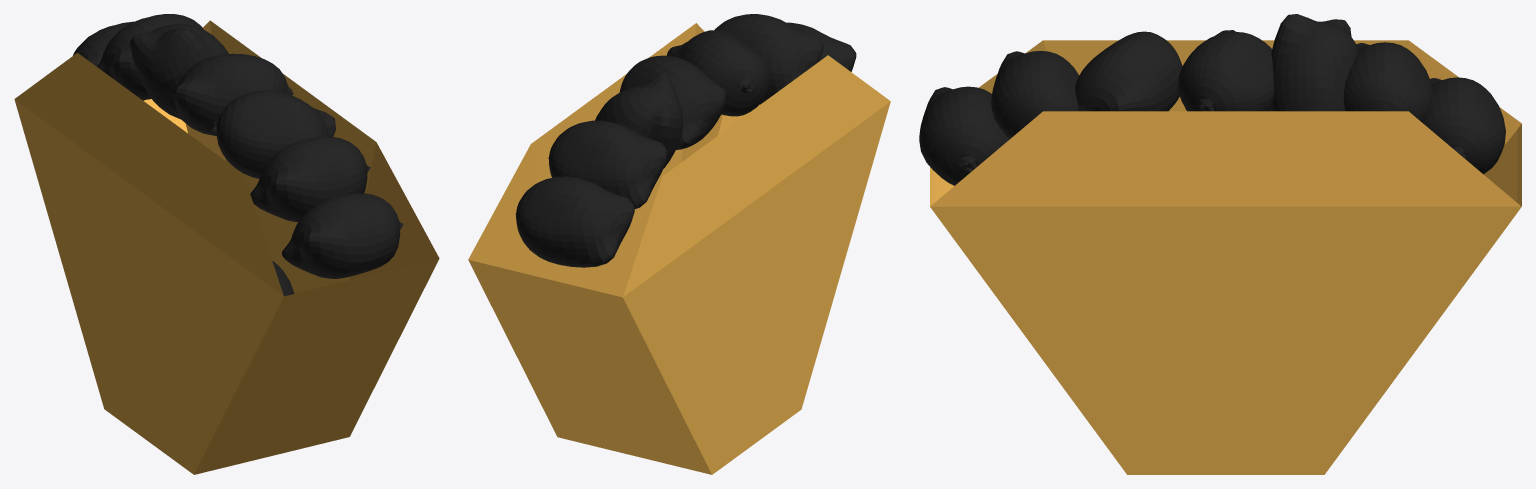
File: Skip Full.obj
The picture shows the model from 3 angles, left to right: view 1: azimuth 30°, elevation 25°; view 2: azimuth 150°, elevation 25°; view 3: azimuth 270°, elevation 25°; orthographic projection. The views are drawn at different scales.
Visible parts, largest first — view 1: Cube, Icosphere.008, Icosphere.007, Icosphere.006, Icosphere.005, Icosphere.004, Icosphere.003, Icosphere.009; view 2: Cube, Icosphere.009, Icosphere.003, Icosphere.006, Icosphere.007, Icosphere.005, Icosphere.004, Icosphere.008; view 3: Cube, Icosphere.004, Icosphere.006, Icosphere.005, Icosphere.008, Icosphere.007, Icosphere.003, Icosphere.009.
Boxes of the visible parts, box(x1,y1,x2,y2) form: Cube: box(14, 20, 439, 474); Icosphere.008: box(281, 193, 403, 278); Icosphere.007: box(250, 136, 370, 221); Icosphere.006: box(211, 90, 335, 178); Icosphere.005: box(168, 53, 293, 135); Icosphere.004: box(130, 23, 228, 119); Icosphere.003: box(97, 14, 203, 99); Icosphere.009: box(73, 21, 145, 100); Cube: box(468, 23, 890, 474); Icosphere.009: box(515, 176, 634, 267); Icosphere.003: box(548, 120, 667, 208); Icosphere.006: box(667, 30, 769, 116); Icosphere.007: box(714, 14, 823, 104); Icosphere.005: box(619, 55, 725, 149); Icosphere.004: box(595, 74, 683, 168); Icosphere.008: box(786, 22, 856, 71); Cube: box(930, 40, 1521, 474); Icosphere.004: box(1271, 14, 1358, 111); Icosphere.006: box(1075, 31, 1182, 111); Icosphere.005: box(1178, 30, 1274, 111); Icosphere.008: box(919, 86, 1009, 185); Icosphere.007: box(991, 51, 1079, 138); Icosphere.003: box(1343, 42, 1432, 123); Icosphere.009: box(1423, 77, 1505, 174).
Size of the model in its own units: 2 by 4.62 by 6.11.
